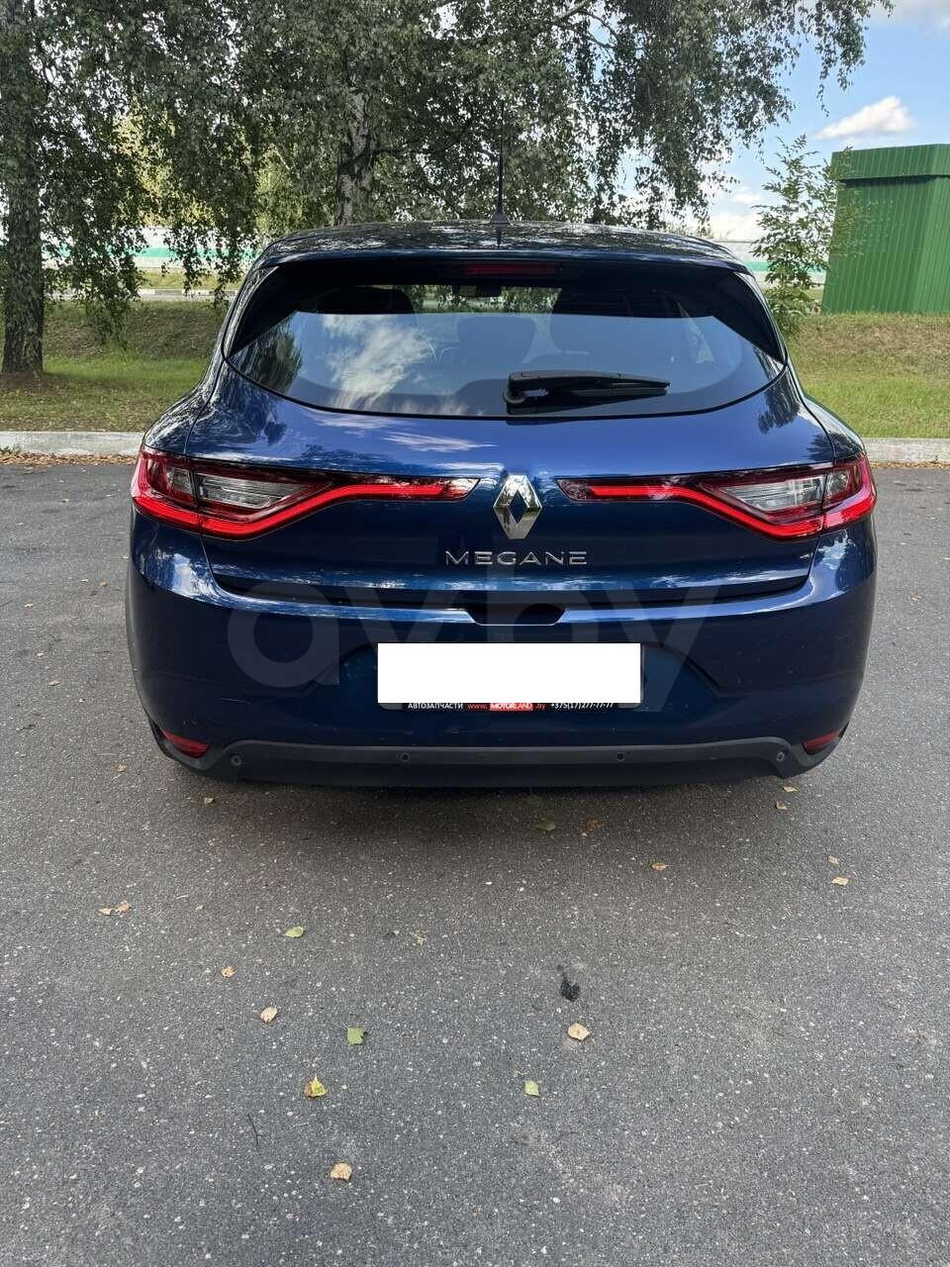Megane_2016-2020: (125, 211, 874, 807)
